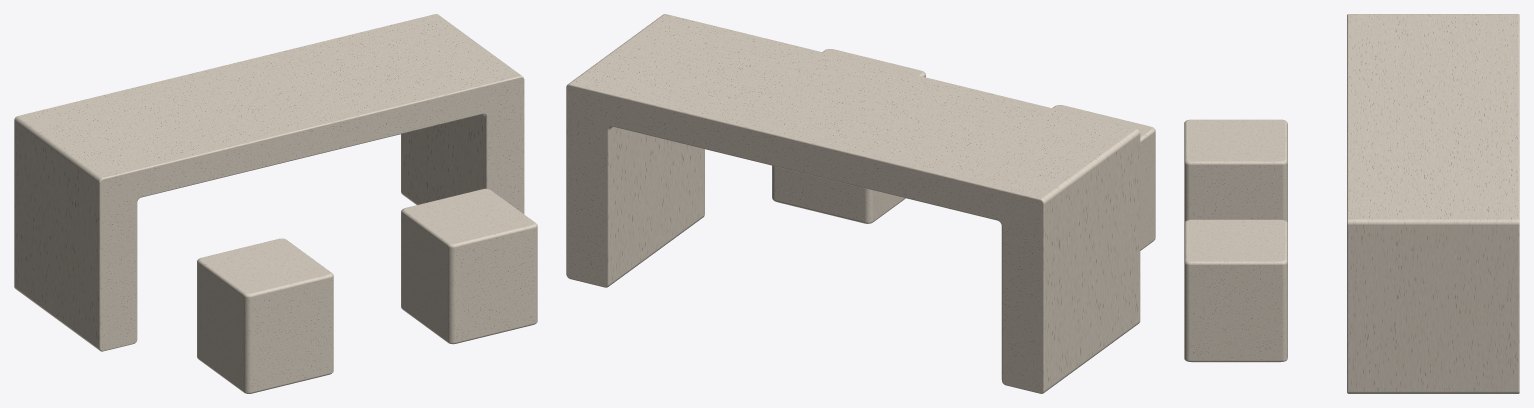
The model's file is F24_ivory_waterfall_table_set.glb.
3 views of the same model, side by side, from view 1: azimuth 30°, elevation 25°; view 2: azimuth 150°, elevation 25°; view 3: azimuth 270°, elevation 25° (orthographic). The views are drawn at different scales.
Visible parts, largest first — view 1: Table - continuous closed waterfall top and end slab support, Right monolithic stone block stool, Left monolithic stone block stool; view 2: Table - continuous closed waterfall top and end slab support, Right monolithic stone block stool, Left monolithic stone block stool; view 3: Table - continuous closed waterfall top and end slab support, Right monolithic stone block stool, Left monolithic stone block stool.
Boxes of the visible parts, box(x1,y1,x2,y2) form: Table - continuous closed waterfall top and end slab support: box(14, 14, 524, 351); Right monolithic stone block stool: box(401, 188, 537, 344); Left monolithic stone block stool: box(197, 238, 333, 393); Table - continuous closed waterfall top and end slab support: box(566, 14, 1140, 393); Right monolithic stone block stool: box(772, 49, 925, 223); Left monolithic stone block stool: box(1052, 105, 1155, 250); Table - continuous closed waterfall top and end slab support: box(1347, 14, 1519, 393); Right monolithic stone block stool: box(1184, 219, 1287, 362); Left monolithic stone block stool: box(1184, 119, 1287, 223).
Bounding box in the file's own units: 2 × 0.78 × 1.36.
Materials: 1 (1 with a texture image).
